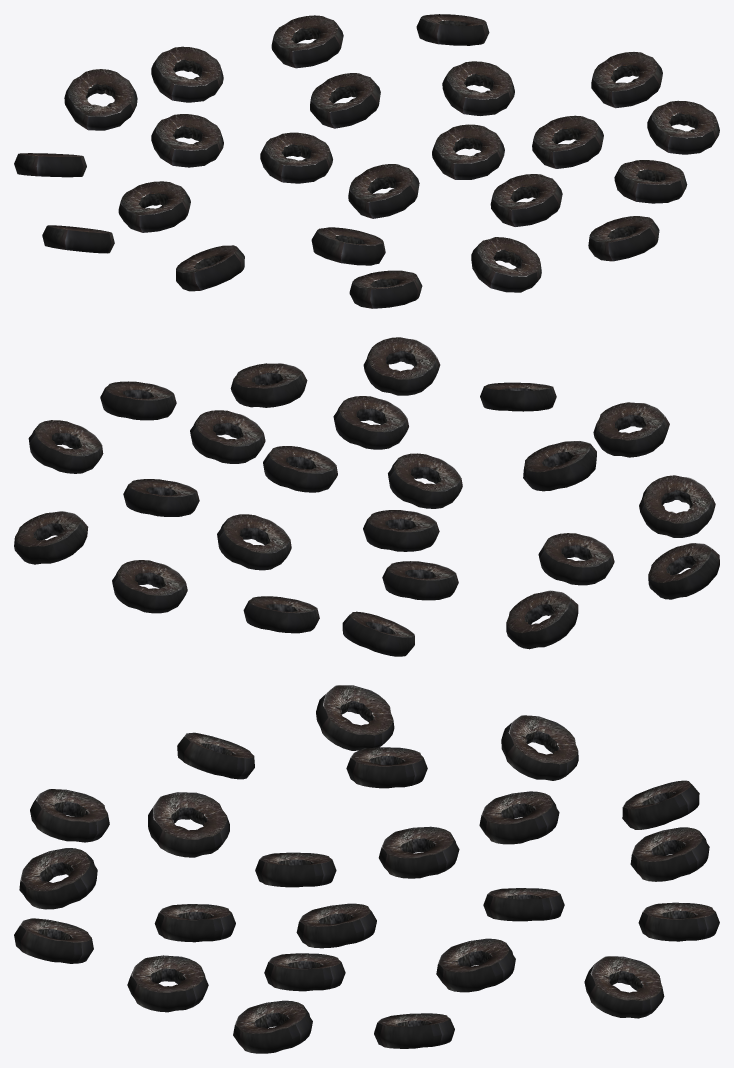
File: olivesliceTopping.fbx
3 views of the same model, one above another, from view 1: azimuth 30°, elevation 25°; view 2: azimuth 150°, elevation 25°; view 3: azimuth 270°, elevation 25° (orthographic). The views are drawn at different scales.
Visible parts, largest first — view 1: olive.019, olive.009, olive.014, olive.007, olive.020, olive, olive.003, olive.008, olive.005, olive.022, olive.013, olive.001 (+11 smaller); view 2: olive.004, olive.021, olive.018, olive.011, olive.005, olive.022, olive.006, olive.010, olive.001, olive.002, olive, olive.012 (+11 smaller); view 3: olive.017, olive.015, olive.011, olive.012, olive.008, olive.016, olive.013, olive.018, olive.003, olive.020, olive.007, olive.009 (+11 smaller).
Boxes of the visible parts, x1,y1,x2,y2 form: olive.019: (64,69,137,130); olive.009: (151,46,223,102); olive.014: (432,124,504,179); olive.007: (442,61,514,115); olive.020: (647,100,719,154); olive: (591,52,662,108); olive.003: (151,114,223,167); olive.008: (471,237,541,292); olive.005: (310,73,380,128); olive.022: (348,164,419,218); olive.013: (260,132,332,183); olive.001: (490,174,562,226); olive.004: (639,475,715,537); olive.021: (363,337,440,395); olive.018: (593,402,669,457); olive.011: (506,590,578,649); olive.005: (217,514,291,570); olive.022: (388,453,462,508); olive.006: (190,410,265,463); olive.010: (112,560,187,613); olive.001: (333,396,408,449); olive.002: (538,533,614,585); olive: (28,420,103,473); olive.012: (14,511,88,564); olive.017: (148,792,229,857); olive.015: (316,685,394,750); olive.011: (501,715,578,780); olive.012: (584,956,664,1018); olive.008: (19,848,97,909); olive.016: (127,955,208,1012); olive.013: (378,826,459,878); olive.018: (30,789,109,842); olive.003: (479,791,559,844); olive.020: (233,1000,312,1053); olive.007: (436,938,515,992); olive.009: (630,827,709,881).
Size of the model in its own units: 40.62 by 2.46 by 35.08.
23 materials, 23 textured.
